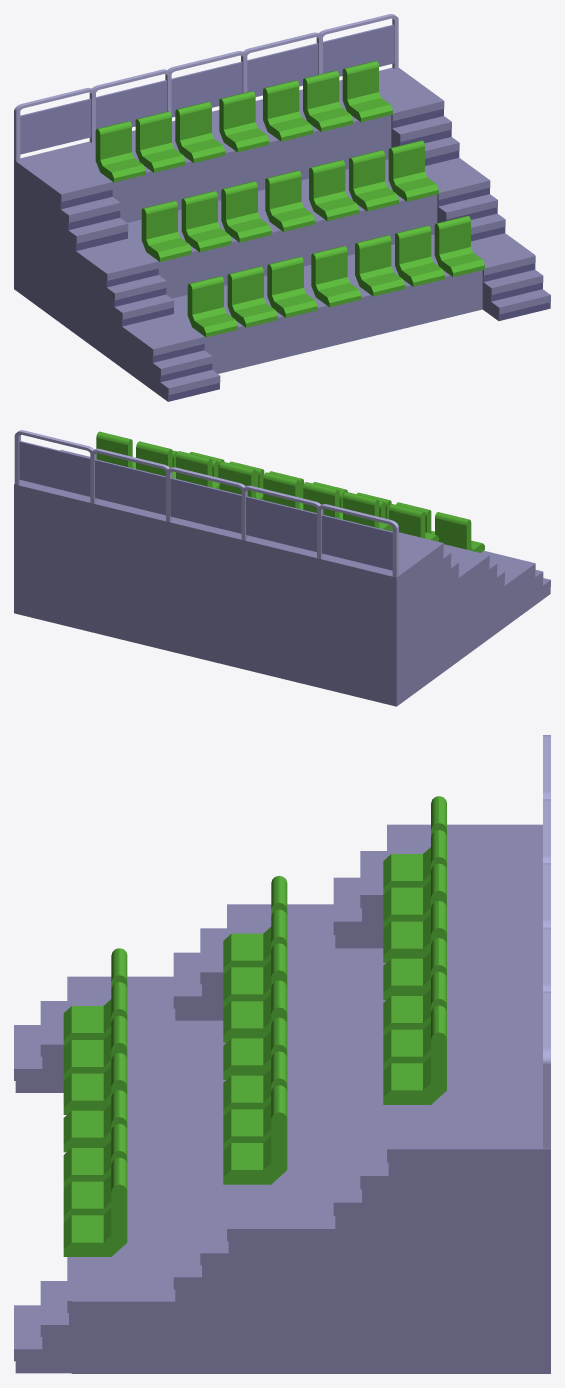
The model's file is gradin.fbx.
3 renders of one model, top to bottom at view 1: azimuth 30°, elevation 25°; view 2: azimuth 150°, elevation 25°; view 3: azimuth 270°, elevation 25°, orthographic. The views are drawn at different scales.
Visible parts, largest first — view 1: mergedBlocks; view 2: mergedBlocks; view 3: mergedBlocks.
Boxes of the visible parts, x1,y1,x2,y2 form: mergedBlocks: (14, 14, 550, 401); mergedBlocks: (14, 430, 550, 706); mergedBlocks: (14, 735, 550, 1373).
Bounding box in the file's own units: 48.1 × 22 × 33.6.
